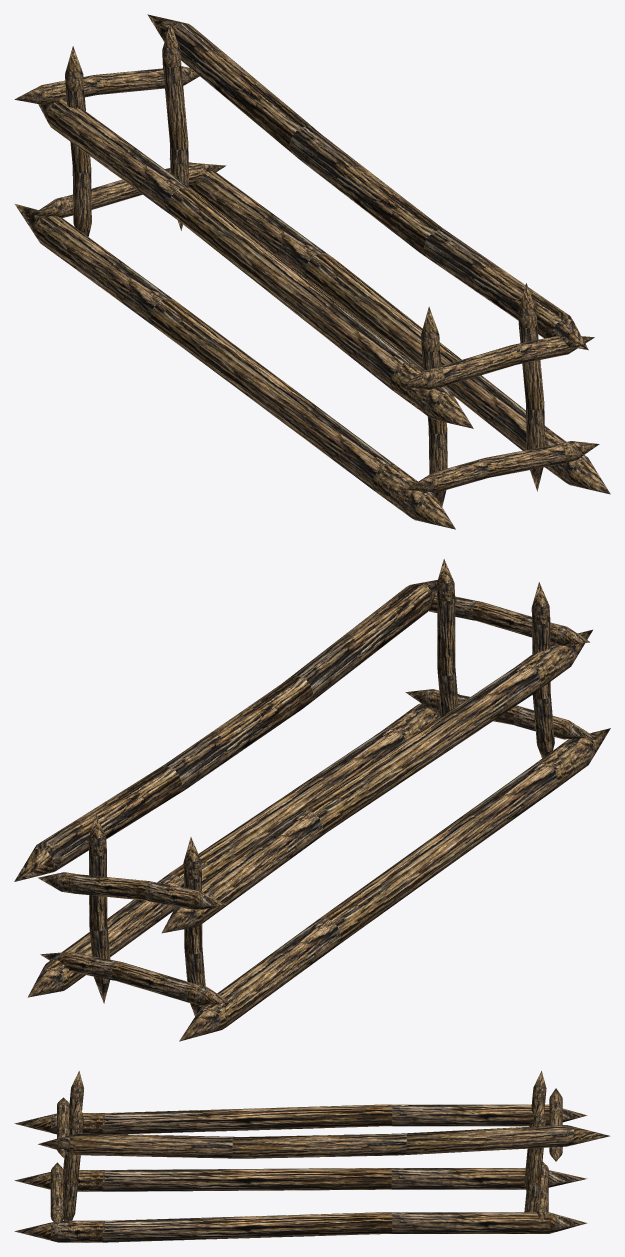
Rendered from woodfence.FBX.
The picture shows the model from 3 angles, top to bottom: view 1: azimuth 30°, elevation 25°; view 2: azimuth 150°, elevation 25°; view 3: azimuth 270°, elevation 25°; orthographic projection. The views are drawn at different scales.
Visible parts, largest first — view 1: Cylinder004, Cylinder001, Cylinder002, Cylinder003, Cylinder005, Cylinder007, Cylinder009, Cylinder012, Cylinder008, Cylinder010, Cylinder011, Cylinder006; view 2: Cylinder004, Cylinder002, Cylinder001, Cylinder003, Cylinder006, Cylinder008, Cylinder012, Cylinder007, Cylinder009, Cylinder011, Cylinder010, Cylinder005; view 3: Cylinder002, Cylinder003, Cylinder001, Cylinder004, Cylinder012, Cylinder009, Cylinder005, Cylinder008, Cylinder010, Cylinder006, Cylinder007, Cylinder011.
Boxes of the visible parts, bbox=[...] form: Cylinder004: bbox=[15, 204, 455, 529]; Cylinder001: bbox=[38, 99, 473, 428]; Cylinder002: bbox=[147, 14, 588, 350]; Cylinder003: bbox=[169, 158, 610, 494]; Cylinder005: bbox=[405, 441, 599, 492]; Cylinder007: bbox=[401, 336, 594, 389]; Cylinder009: bbox=[162, 22, 188, 230]; Cylinder012: bbox=[518, 283, 544, 491]; Cylinder008: bbox=[14, 66, 199, 104]; Cylinder010: bbox=[65, 46, 91, 236]; Cylinder011: bbox=[421, 306, 447, 506]; Cylinder006: bbox=[32, 163, 226, 217]; Cylinder004: bbox=[179, 728, 610, 1041]; Cylinder002: bbox=[14, 580, 437, 881]; Cylinder001: bbox=[162, 629, 592, 933]; Cylinder003: bbox=[27, 693, 459, 997]; Cylinder006: bbox=[40, 951, 229, 1005]; Cylinder008: bbox=[38, 872, 226, 910]; Cylinder012: bbox=[436, 559, 458, 748]; Cylinder007: bbox=[428, 593, 589, 645]; Cylinder009: bbox=[88, 813, 110, 1003]; Cylinder011: bbox=[531, 582, 554, 758]; Cylinder010: bbox=[183, 837, 205, 1016]; Cylinder005: bbox=[405, 689, 594, 739]; Cylinder002: bbox=[38, 1125, 610, 1158]; Cylinder003: bbox=[14, 1212, 587, 1242]; Cylinder001: bbox=[14, 1104, 587, 1134]; Cylinder004: bbox=[14, 1168, 587, 1191]; Cylinder012: bbox=[63, 1101, 83, 1220]; Cylinder009: bbox=[524, 1101, 546, 1212]; Cylinder005: bbox=[50, 1162, 63, 1224]; Cylinder008: bbox=[549, 1088, 562, 1161]; Cylinder010: bbox=[524, 1071, 546, 1190]; Cylinder006: bbox=[535, 1162, 548, 1221]; Cylinder007: bbox=[57, 1097, 69, 1157]; Cylinder011: bbox=[63, 1071, 83, 1190].
Size of the model in its own units: 19.15 by 18.38 by 75.46.
